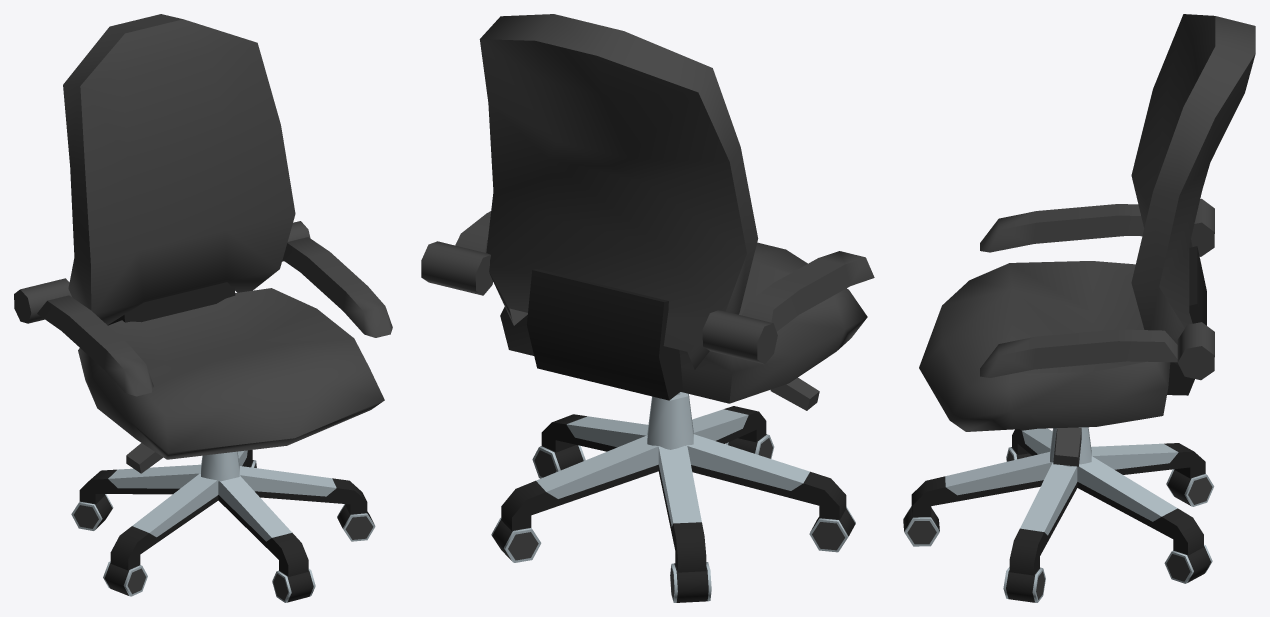
The model's file is office_chair_018.fbx.
3 views of the same model, side by side, from view 1: azimuth 30°, elevation 25°; view 2: azimuth 150°, elevation 25°; view 3: azimuth 270°, elevation 25° (orthographic). The views are drawn at different scales.
Parts seen in each view (by area): view 1: office_chair_018; view 2: office_chair_018; view 3: office_chair_018.
Boxes of the visible parts, <box> form: office_chair_018: <box>14,14,392,602</box>; office_chair_018: <box>421,14,874,602</box>; office_chair_018: <box>903,14,1255,602</box>.
Bounding box in the file's own units: 64.83 × 65.61 × 104.
